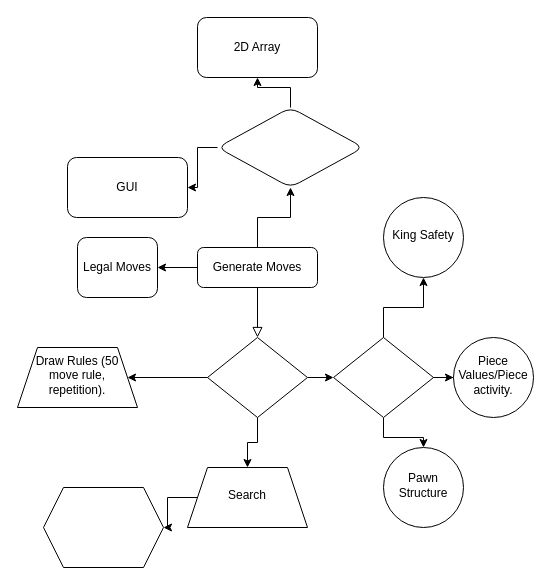
The diagram is 551 pixels wide and 585 high, and some of its shapes have lost their labels. Each missing label, with the centre of its shape:
"Board Reporsentation" belongs at (x=290, y=147).
"Depth" belongs at (x=103, y=527).
"Evaluate Position" belongs at (x=257, y=377).
"Evaluation Variables" belongs at (x=383, y=377).
